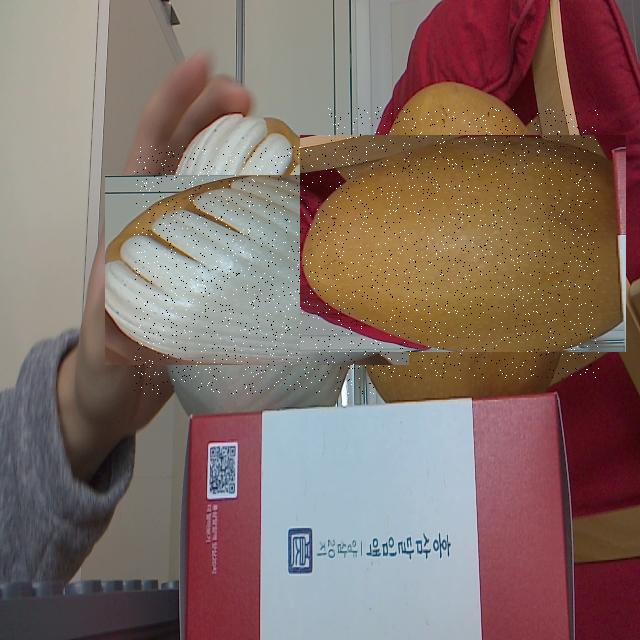pear: (327, 107, 599, 379), (134, 146, 381, 394)
